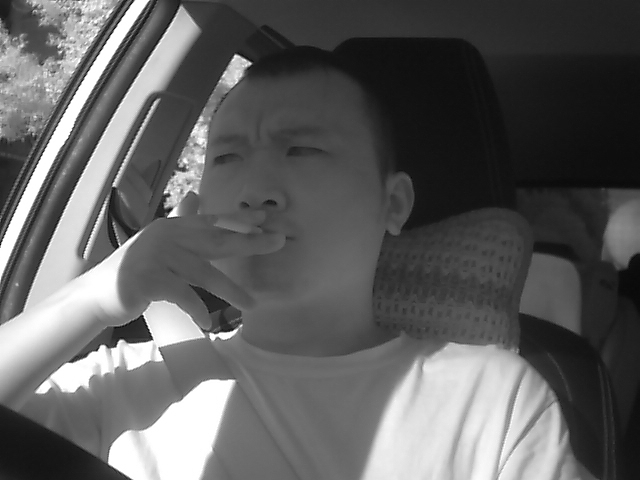hand: (118, 191, 283, 335)
